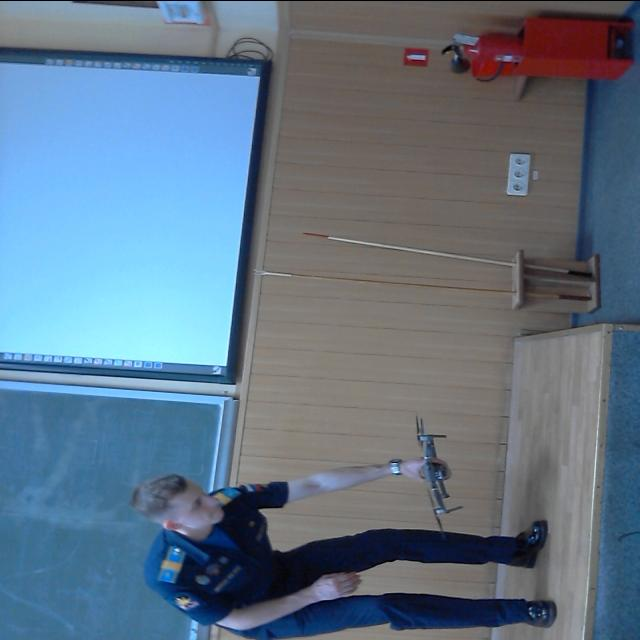drone: (402, 401, 464, 525)
